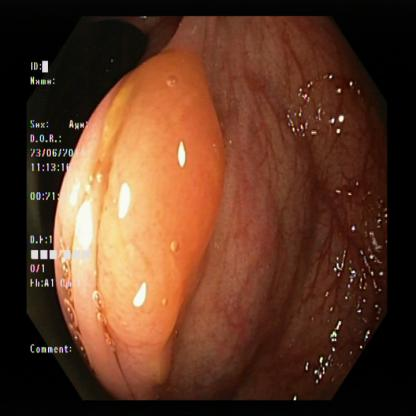Labels: (23, 52, 91, 364)
Polyps: (104, 69, 232, 372)
